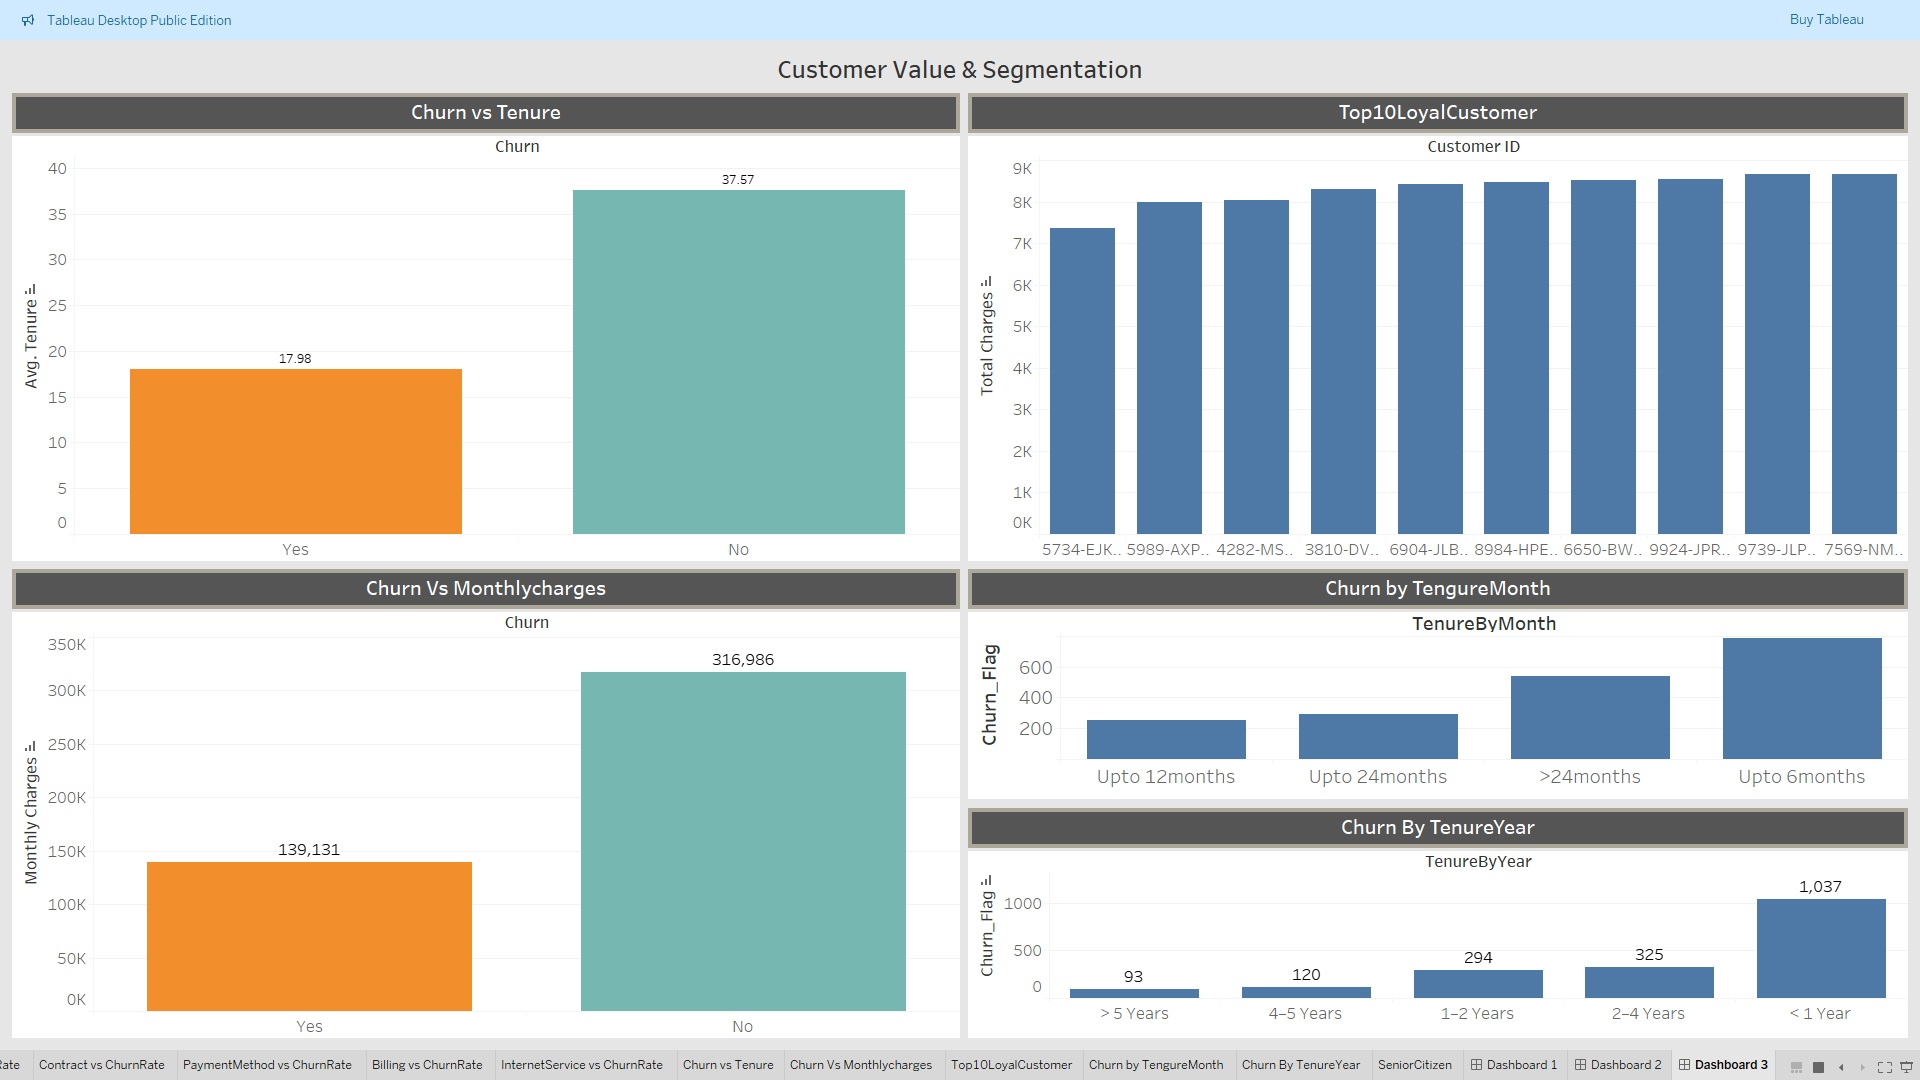

The page's visual inventory and layout, read from the dashboard file:
{"tool":"tableau","page":{"name":"Dashboard 3","canvas":[1000,1000],"units":"permille","ordinal":2},"visuals":[{"type":"title","box":[4.7,9.3,990.6,47.5]},{"type":"worksheet","title":"Churn vs Tenure","mark":"Automatic","rows":["tenure"],"cols":["Churn"],"box":[4.7,56.7,497.6,467]},{"type":"worksheet","title":"Top10LoyalCustomer","mark":"Automatic","rows":["TotalCharges"],"cols":["customerID"],"box":[502.3,56.7,493.1,467]},{"type":"worksheet","title":"Churn Vs Monthlycharges","mark":"Automatic","rows":["MonthlyCharges"],"cols":["Churn"],"box":[4.7,523.7,497.6,467]},{"type":"worksheet","title":"Churn by TengureMonth","mark":"Automatic","rows":["Calculation_52635884941819904"],"box":[502.3,523.7,493.1,233.5]},{"type":"worksheet","title":"Churn By TenureYear","mark":"Automatic","rows":["Calculation_52635884941819904"],"cols":["Calculation_52635885028130821"],"box":[502.3,757.2,493.1,233.5]}]}

Visuals, with their boxes on the dashboard's canvas, which has no fixed pixel size, in thousandths of its width and height (x1, y1, x2, y2). These are canvas units, not pixel positions in the 1920x1080 screenshot, which may show the page scaled, cropped or inside an application window:
title: BBox(5, 9, 995, 57)
"Churn vs Tenure" worksheet: BBox(5, 57, 502, 524)
"Top10LoyalCustomer" worksheet: BBox(502, 57, 995, 524)
"Churn Vs Monthlycharges" worksheet: BBox(5, 524, 502, 991)
"Churn by TengureMonth" worksheet: BBox(502, 524, 995, 757)
"Churn By TenureYear" worksheet: BBox(502, 757, 995, 991)
